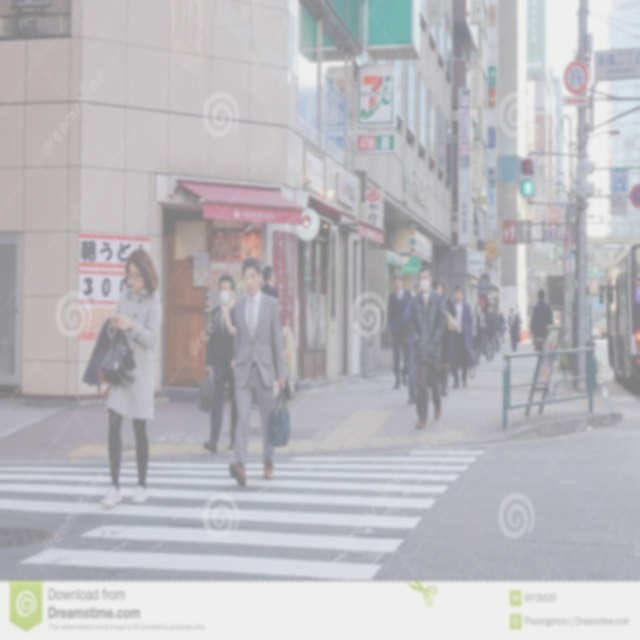pessoa: (80, 246, 163, 510), (224, 252, 292, 490), (404, 267, 449, 430), (202, 271, 240, 456), (250, 264, 298, 408), (402, 282, 430, 406), (386, 272, 413, 391), (432, 278, 456, 398), (450, 283, 474, 390), (528, 288, 556, 352), (471, 302, 487, 367), (446, 290, 458, 376), (483, 302, 499, 364), (506, 306, 522, 353), (500, 219, 530, 244), (492, 306, 503, 356), (499, 312, 507, 344), (516, 312, 523, 344), (496, 314, 503, 346), (530, 330, 539, 353)
